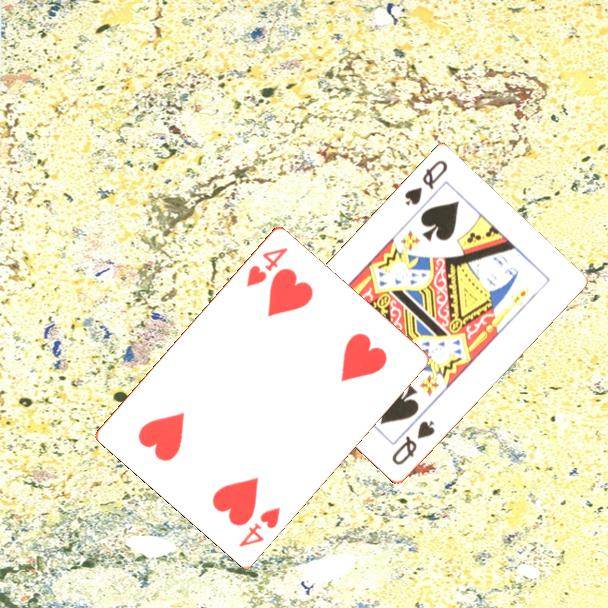h04: (243, 243, 291, 290), (235, 503, 283, 549)
s12: (401, 157, 451, 209), (388, 417, 438, 468)
